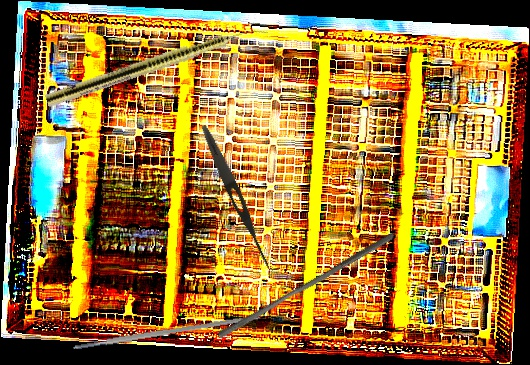Dressing Forceps: (196, 122, 277, 272)
Handpiece: (44, 18, 269, 111)
Pusher: (215, 225, 397, 346)
Scalpel Handle: (71, 313, 262, 351)
